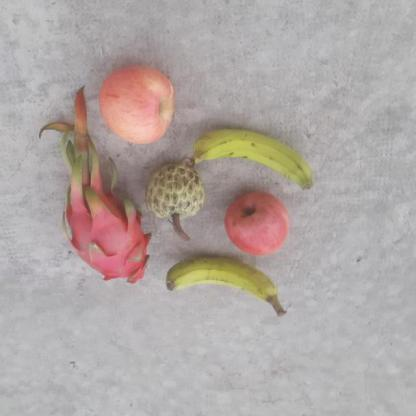annona: (146, 162, 204, 219)
apple: (96, 63, 178, 148), (224, 193, 294, 258)
banana: (190, 128, 313, 192), (158, 258, 278, 302)
pitaya: (59, 180, 154, 288)
